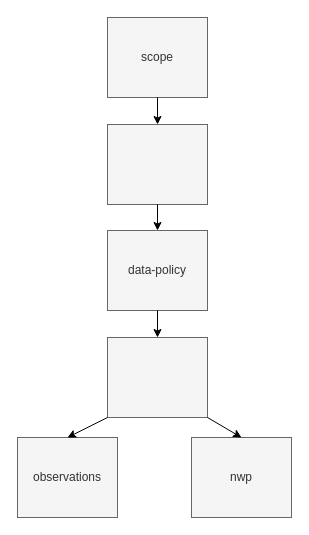
Some shapes in this 309 by 535 pixel diagram are drawn without their labels. The shapes that lost their labels are listed below. From the top down, each one's centre as x and y in pixels, then its label:
At point 157,164: "resource-type".
At point 157,377: "data-type".
